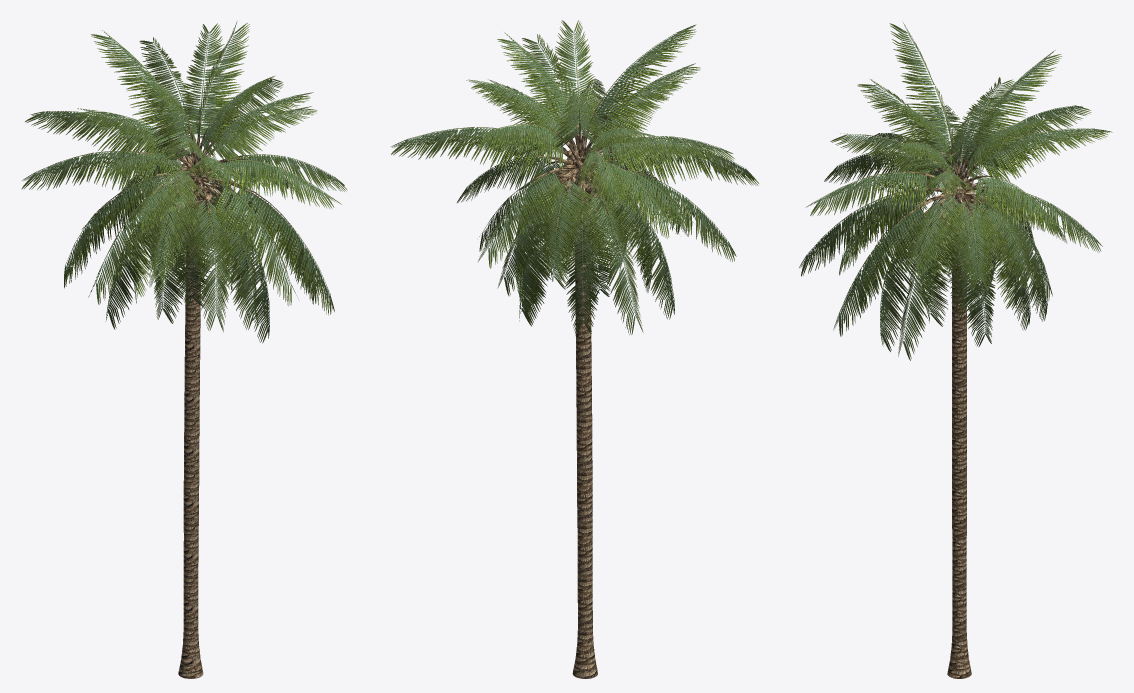
The model's file is palm_tree.gltf.
3 views of the same model, side by side, from view 1: azimuth 30°, elevation 25°; view 2: azimuth 150°, elevation 25°; view 3: azimuth 270°, elevation 25° (orthographic). The views are drawn at different scales.
Visible parts, largest first — view 1: Palm_1_1; view 2: Palm_1_1; view 3: Palm_1_1.
Boxes of the visible parts, bbox=[...] form: Palm_1_1: bbox=[21, 21, 347, 678]; Palm_1_1: bbox=[391, 20, 758, 678]; Palm_1_1: bbox=[799, 22, 1112, 678].
Size of the model in its own units: 6.87 by 14.57 by 6.94.
3 materials, 3 textured.
